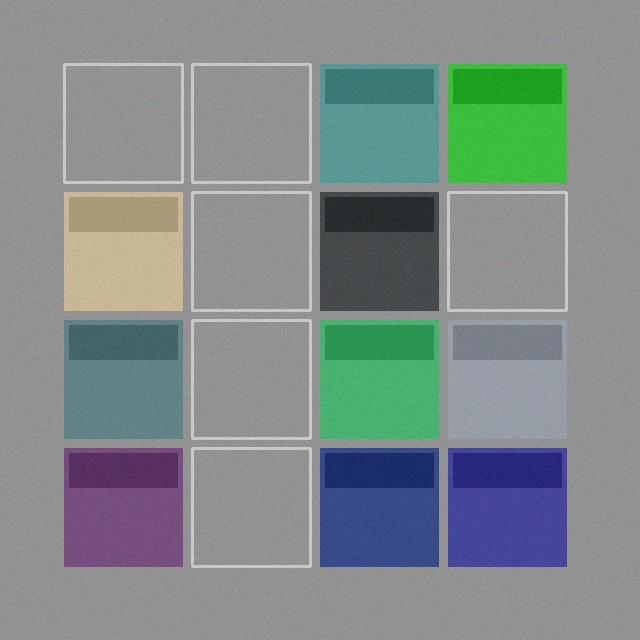space-empty: (64, 64, 182, 182), (192, 64, 310, 182), (192, 192, 310, 310), (448, 192, 566, 310), (192, 320, 310, 438), (192, 448, 310, 566)
space-occupied: (320, 64, 438, 182), (448, 64, 566, 182), (64, 192, 182, 310), (320, 192, 438, 310), (64, 320, 182, 438), (320, 320, 438, 438), (448, 320, 566, 438), (64, 448, 182, 566), (320, 448, 438, 566), (448, 448, 566, 566)
